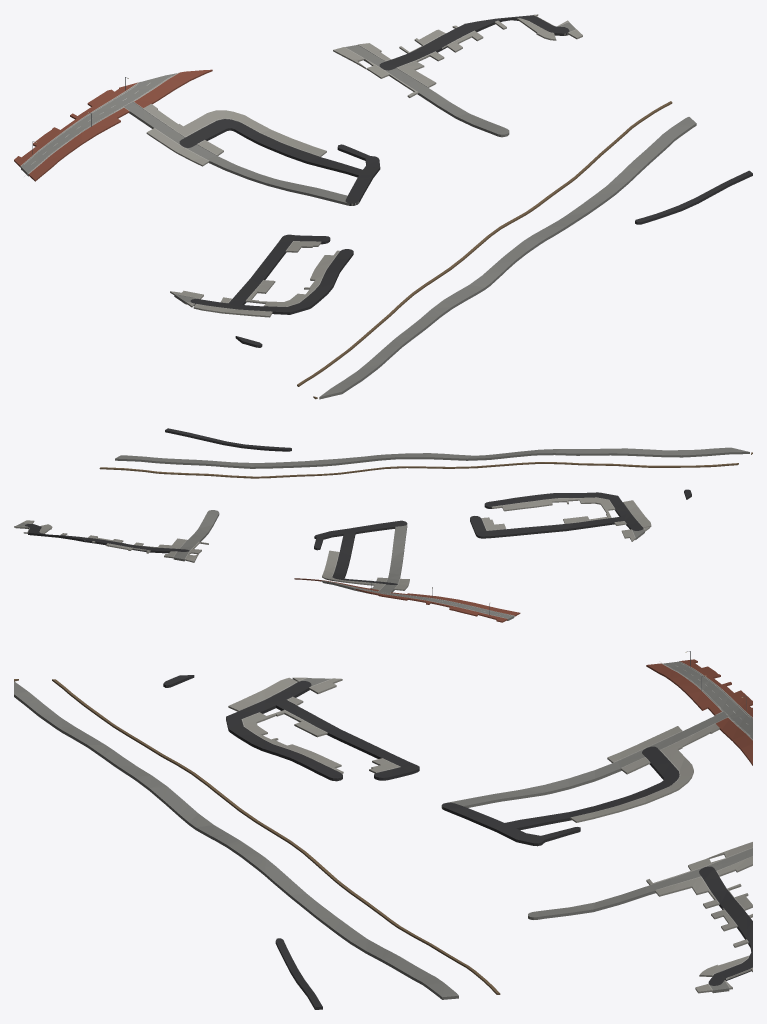
The picture shows the model from 3 angles, top to bottom: view 1: azimuth 30°, elevation 25°; view 2: azimuth 150°, elevation 25°; view 3: azimuth 270°, elevation 25°; orthographic projection. The views are drawn at different scales.
Size of the model in its own units: 297 by 35.61 by 291.
